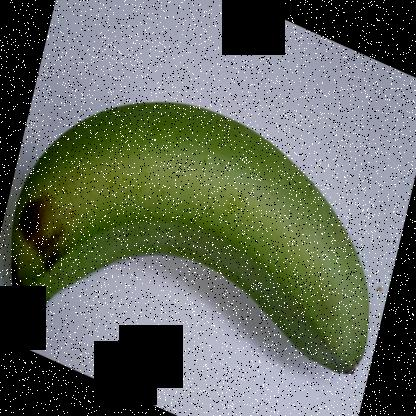freshunripe: (1, 96, 379, 384)
